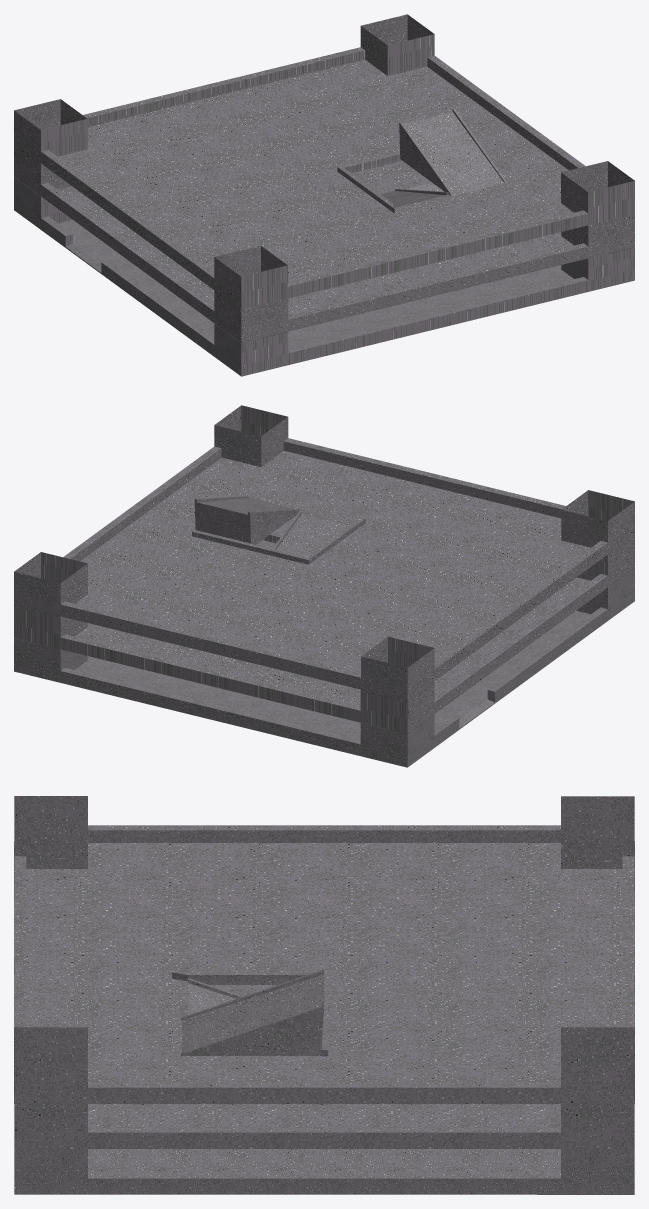
File: parking structures.glb
The picture shows the model from 3 angles, top to bottom: view 1: azimuth 30°, elevation 25°; view 2: azimuth 150°, elevation 25°; view 3: azimuth 270°, elevation 25°; orthographic projection. The views are drawn at different scales.
Parts seen in each view (by area): view 1: Parking Lot 2; view 2: Parking Lot 2; view 3: Parking Lot 2.
Boxes of the visible parts, x1=… form: Parking Lot 2: x1=14, y1=14, x2=634, y2=376; Parking Lot 2: x1=14, y1=405, x2=634, y2=767; Parking Lot 2: x1=14, y1=796, x2=634, y2=1194.
Bounding box in the file's own units: 64.77 × 16.6 × 64.82.
1 material, 1 textured.
